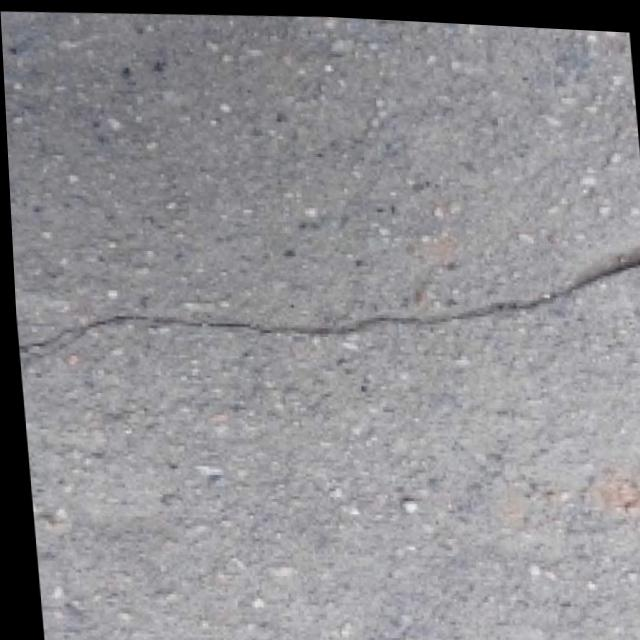Crack: (8, 195, 640, 421)
